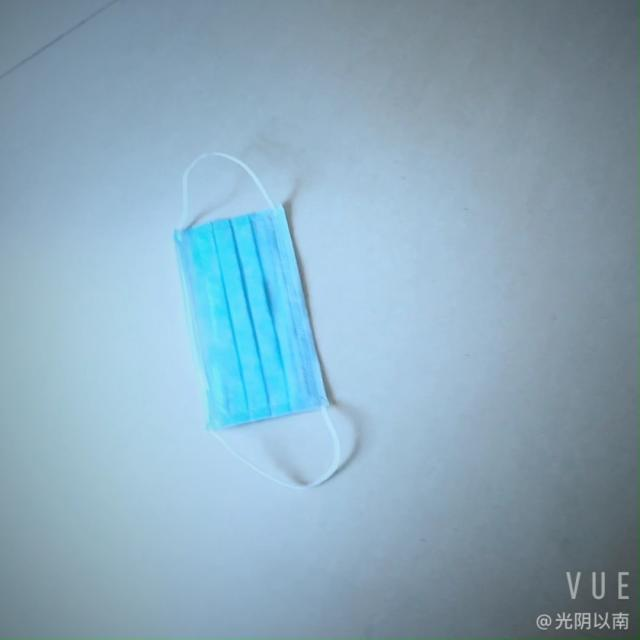face mask: (182, 192, 327, 438)
